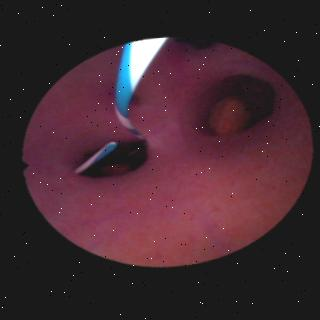stone: (209, 99, 246, 136)
tissue: (26, 47, 306, 264)
